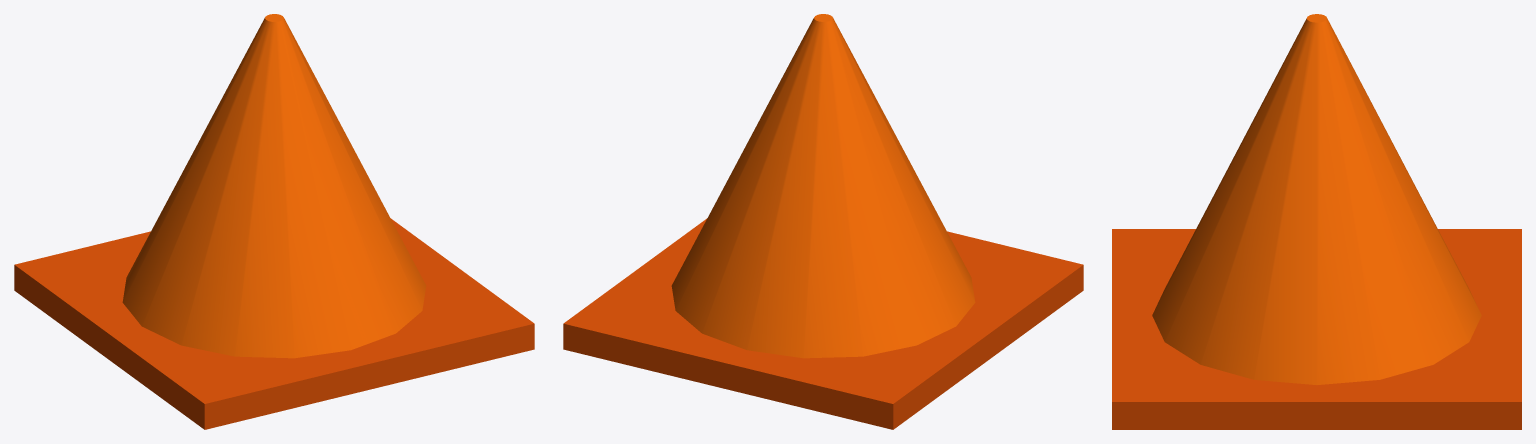
File: obstacle_cone.glb
3 views of the same model, side by side, from view 1: azimuth 30°, elevation 25°; view 2: azimuth 150°, elevation 25°; view 3: azimuth 270°, elevation 25° (orthographic). The views are drawn at different scales.
Parts seen in each view (by area): view 1: obstacle_cone; view 2: obstacle_cone; view 3: obstacle_cone.
Boxes of the visible parts, <box> form: obstacle_cone: <box>14,14,534,429</box>; obstacle_cone: <box>563,14,1083,429</box>; obstacle_cone: <box>1112,14,1521,429</box>.
Bounding box in the file's own units: 0.8 × 0.7 × 0.8.
